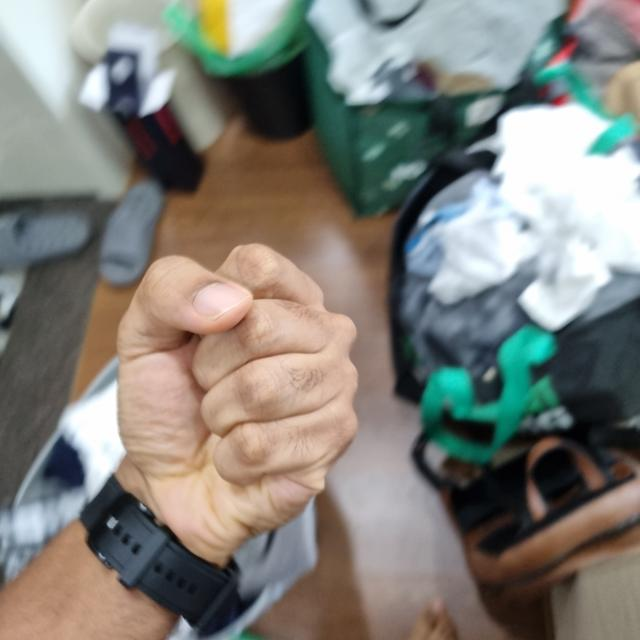Rock: (114, 248, 358, 555)
